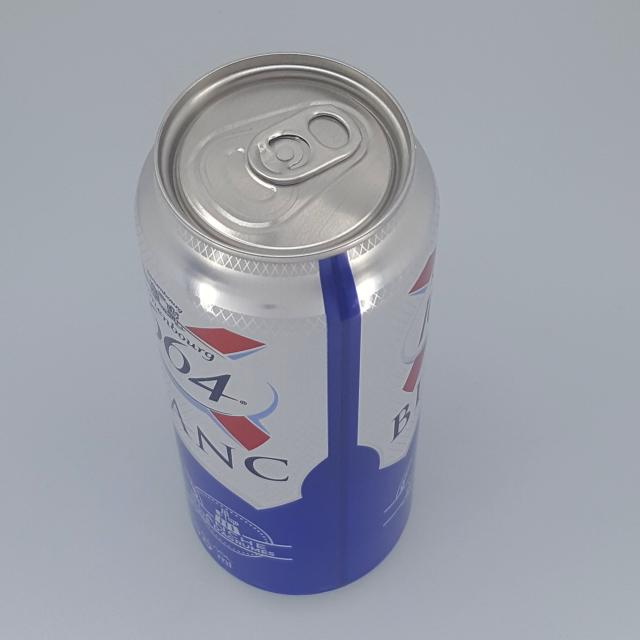beer-can: (134, 51, 440, 596)
